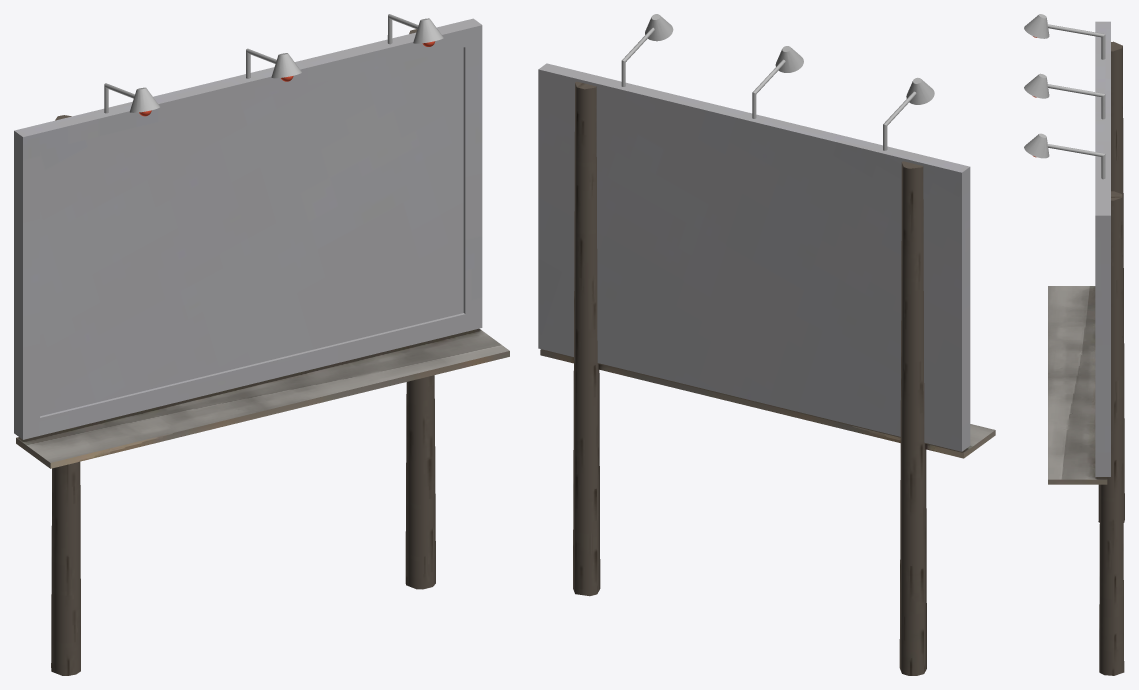
Rendered from billboard.glb.
3 views of the same model, side by side, from view 1: azimuth 30°, elevation 25°; view 2: azimuth 150°, elevation 25°; view 3: azimuth 270°, elevation 25° (orthographic). The views are drawn at different scales.
Parts seen in each view (by area): view 1: billboard; view 2: billboard; view 3: billboard.
Boxes of the visible parts, x1,y1,x2,y2 form: billboard: [14, 14, 509, 675]; billboard: [538, 14, 995, 675]; billboard: [1024, 14, 1124, 675].
Bounding box in the file's own units: 3.24 × 4.06 × 0.7132.
Materials: 5 (4 with a texture image).
